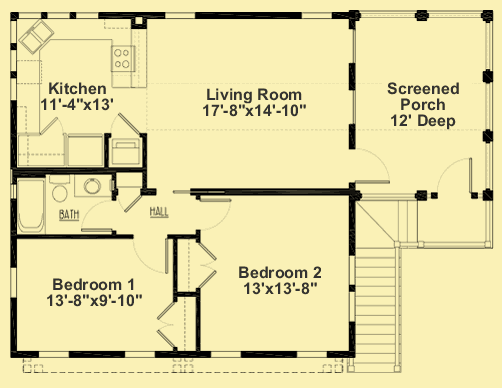door: (350, 145, 394, 186), (132, 236, 170, 276), (436, 157, 474, 195), (196, 243, 222, 290), (80, 198, 113, 234), (199, 198, 232, 232), (156, 299, 177, 348), (111, 112, 139, 137), (40, 116, 65, 138)
large_sink: (47, 173, 73, 204)
small_sink: (75, 175, 111, 196)
stairs: (355, 196, 417, 374)
tub: (18, 178, 46, 234)
twin_sink: (17, 18, 55, 55)
window: (8, 265, 21, 300), (35, 350, 73, 359), (164, 11, 198, 21), (299, 11, 334, 20), (122, 351, 158, 359), (296, 351, 328, 360), (207, 352, 240, 359)
